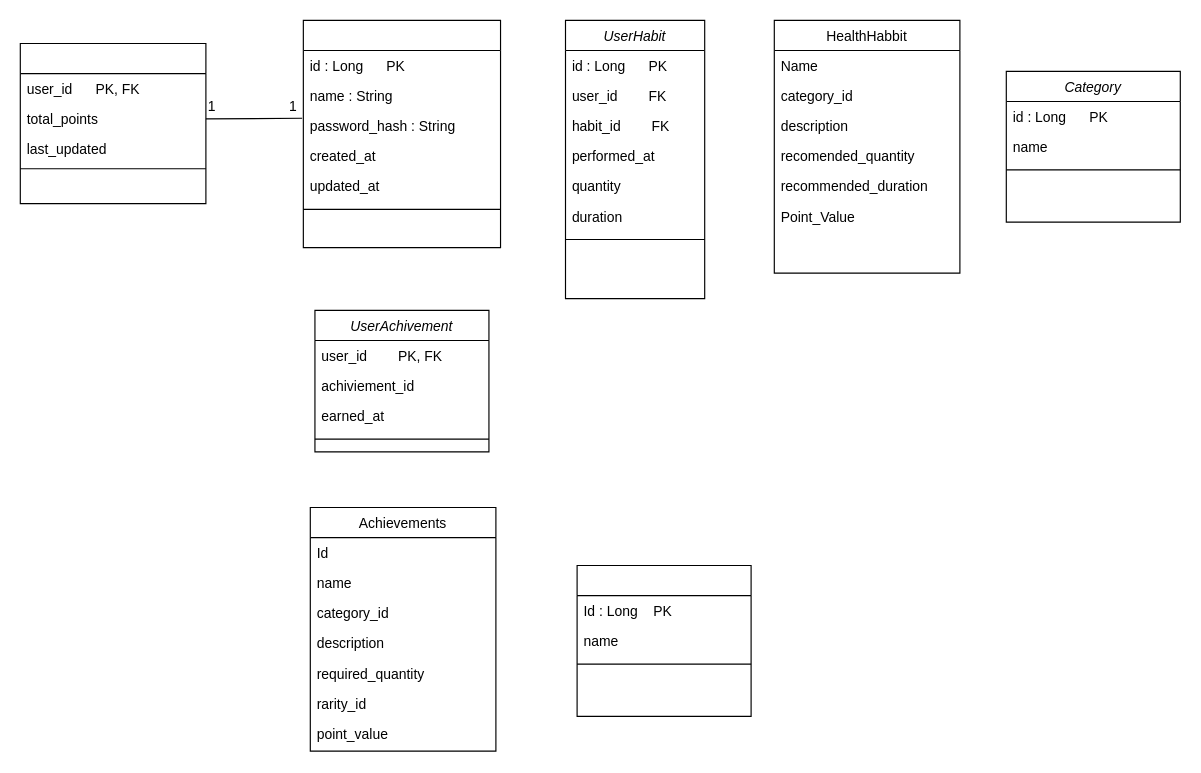
This 1201x773 diagram has some shape labels left out. Each missing label, with the box of its shape:
Rank: (19, 42, 206, 204)
Rarity: (576, 564, 751, 716)
User: (302, 19, 501, 248)
